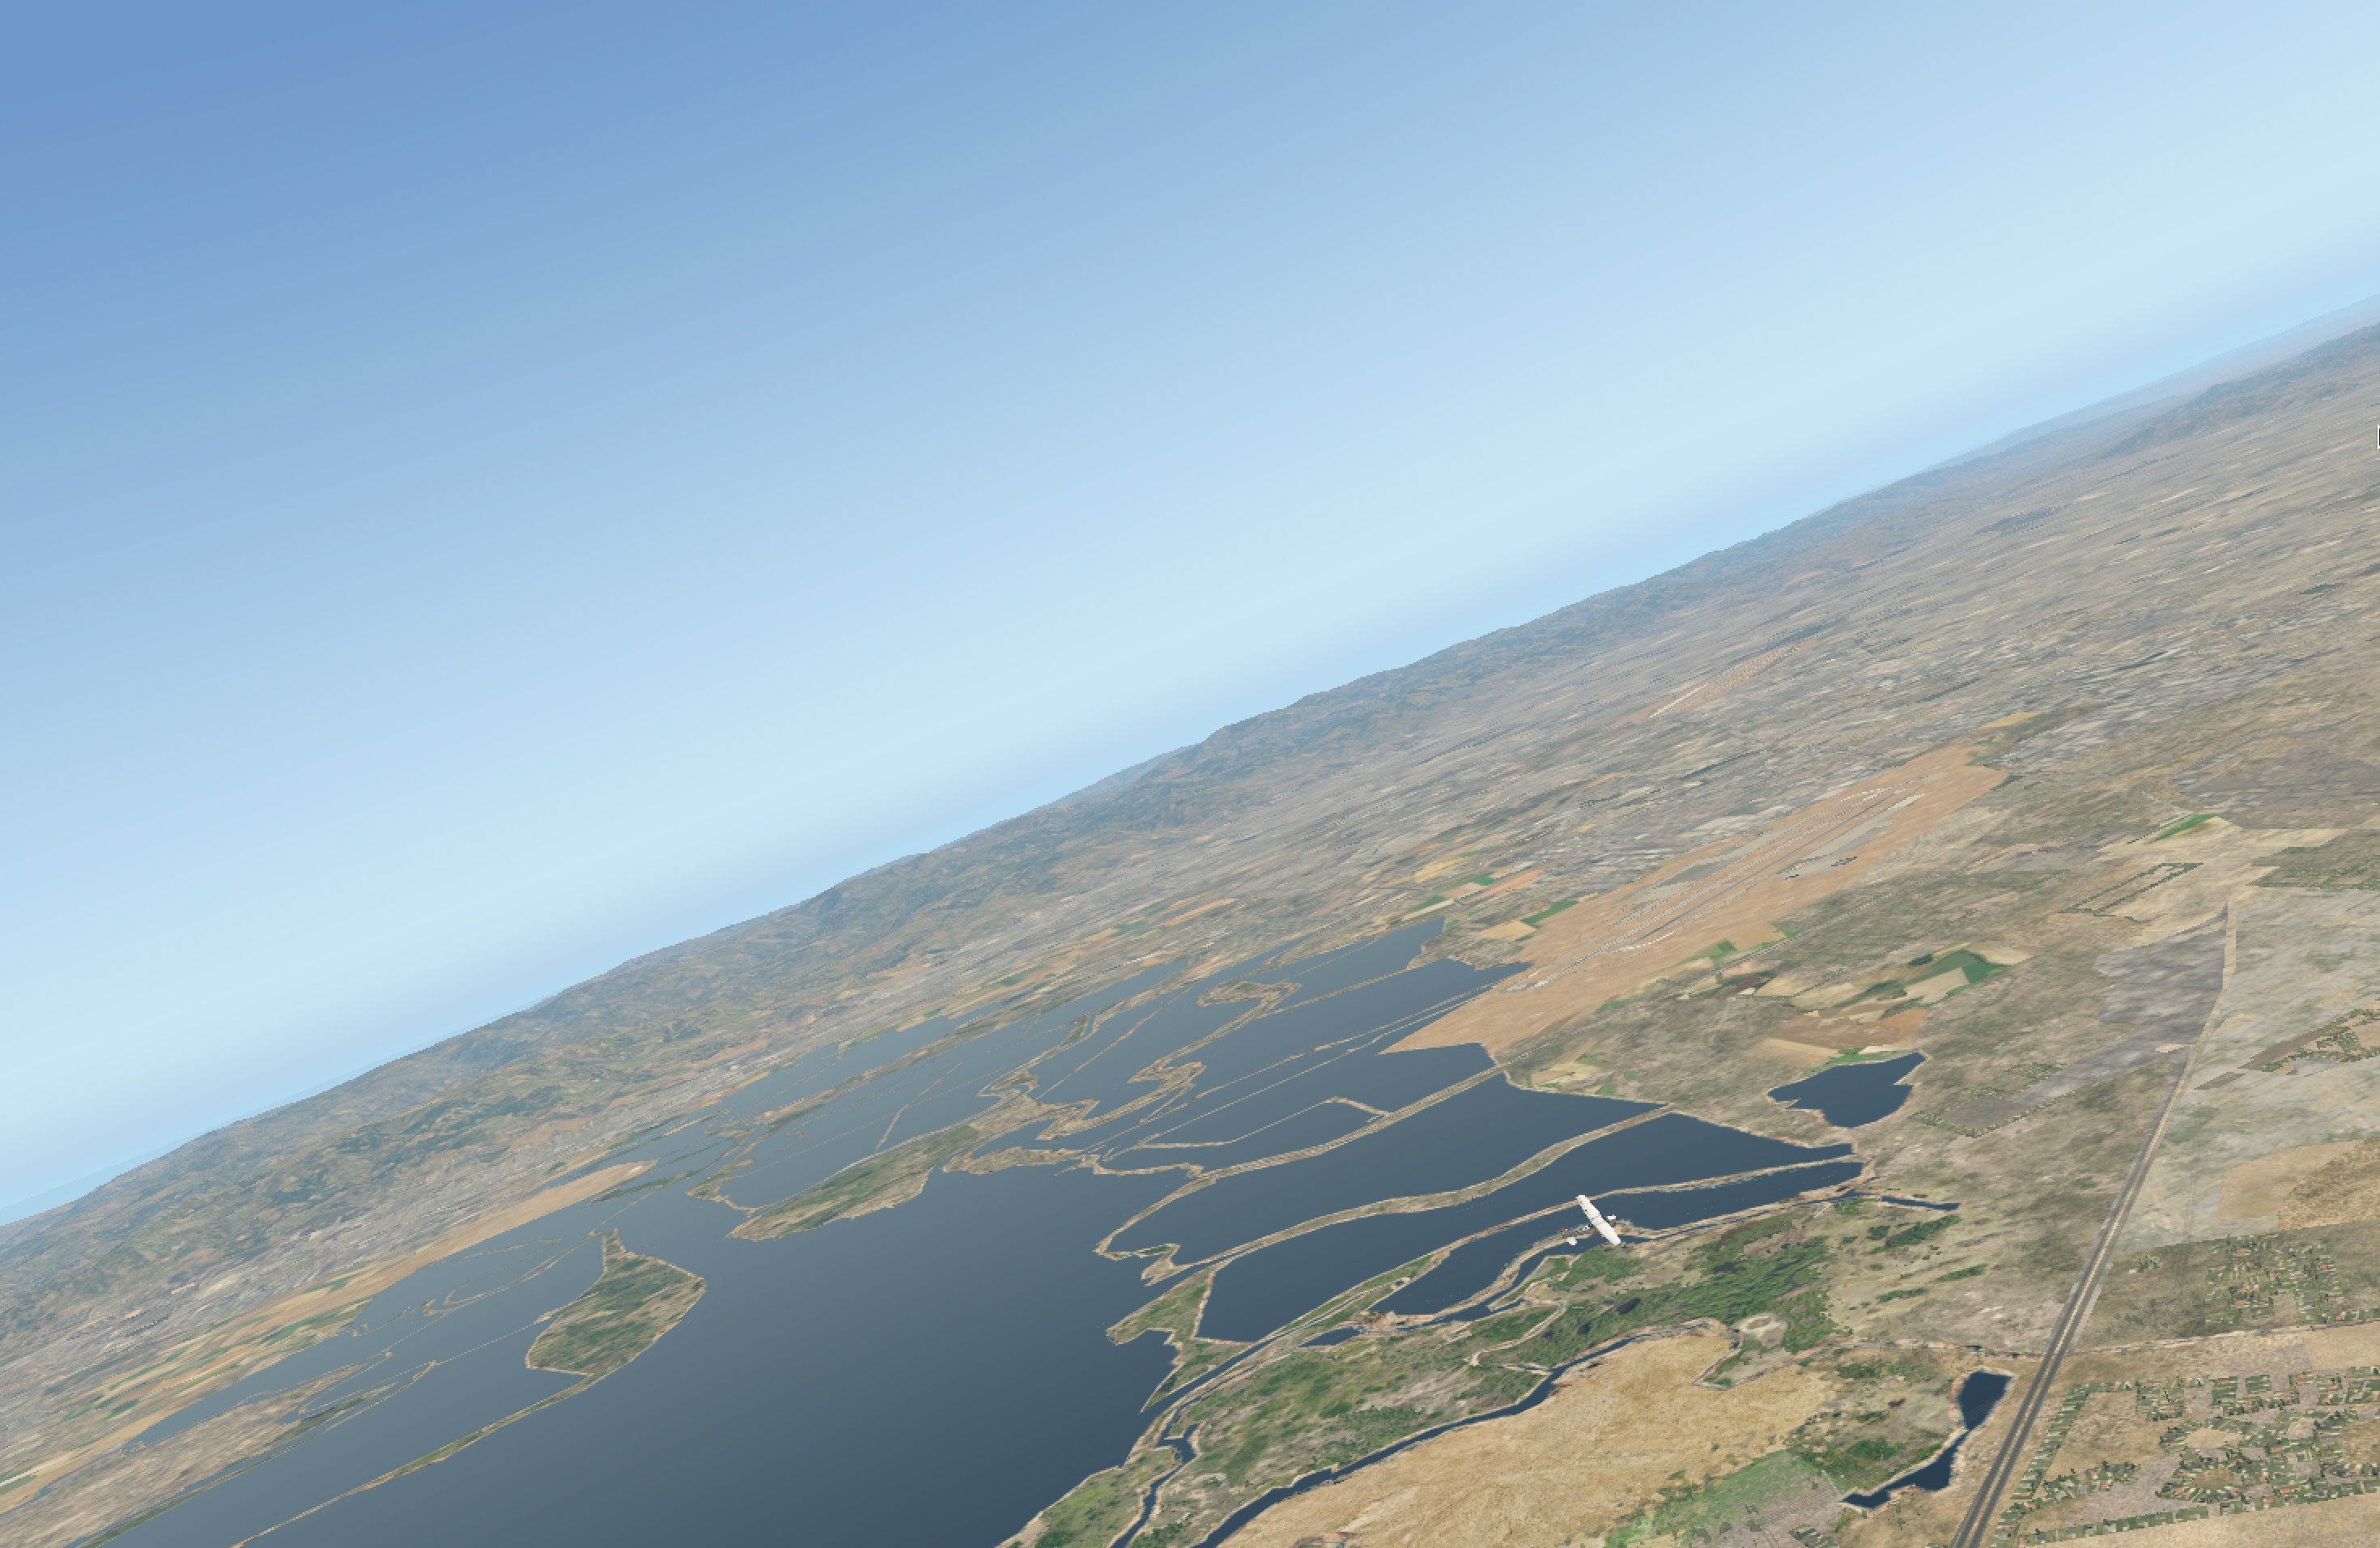aircraft: (1572, 1211, 1631, 1234)
